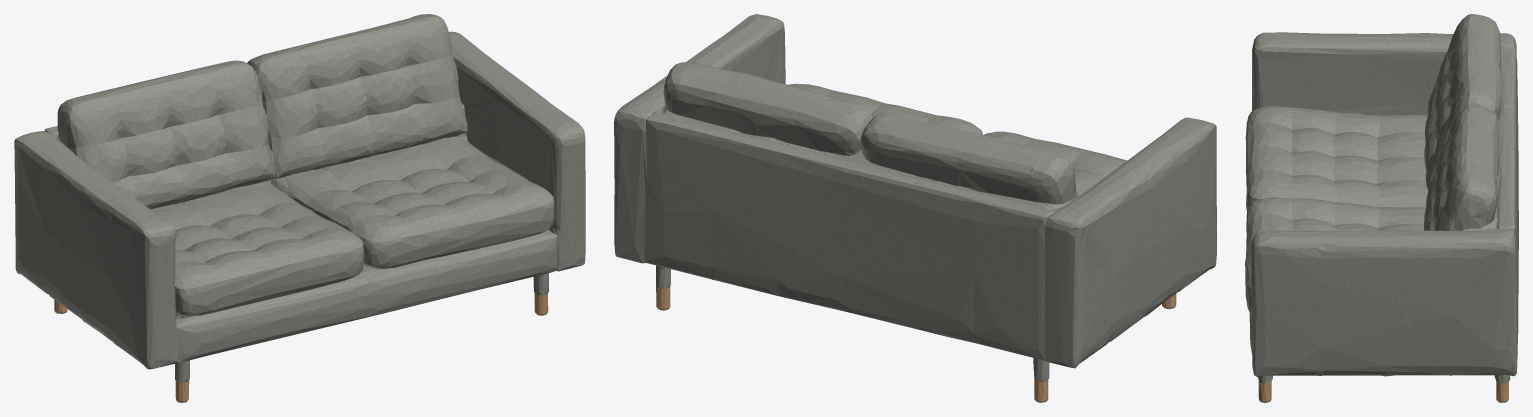
3 renders of one model, left to right at view 1: azimuth 30°, elevation 25°; view 2: azimuth 150°, elevation 25°; view 3: azimuth 270°, elevation 25°, orthographic. The views are drawn at different scales.
Parts seen in each view (by area): view 1: ProcessedGeometry; view 2: ProcessedGeometry; view 3: ProcessedGeometry.
Boxes of the visible parts, x1,y1,x2,y2 form: ProcessedGeometry: (14, 14, 585, 402); ProcessedGeometry: (614, 14, 1216, 402); ProcessedGeometry: (1245, 14, 1518, 402).
Bounding box in the file's own units: 1.64 × 0.78 × 0.89.
Materials: 1 (1 with a texture image).
